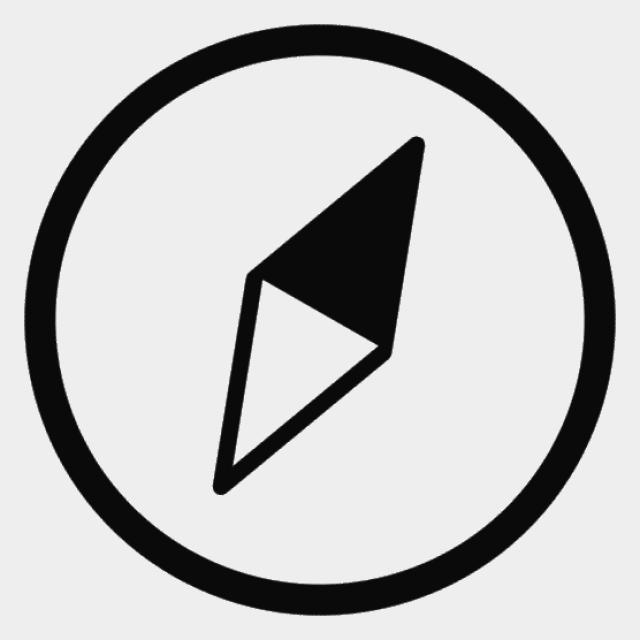compass: (13, 17, 630, 632)
